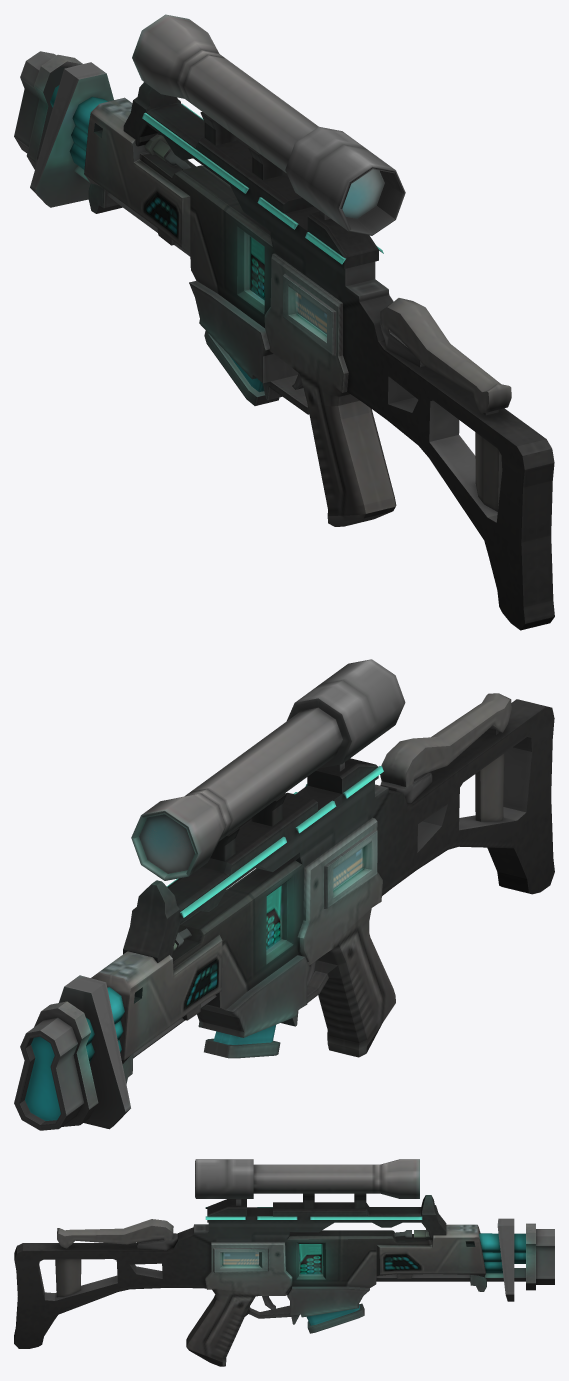
Rendered from Super_Spy_Laser_Blaster.obj.
The picture shows the model from 3 angles, top to bottom: view 1: azimuth 30°, elevation 25°; view 2: azimuth 150°, elevation 25°; view 3: azimuth 270°, elevation 25°; orthographic projection. The views are drawn at different scales.
Parts seen in each view (by area): view 1: Superspylaserblaster1; view 2: Superspylaserblaster1; view 3: Superspylaserblaster1.
Part boxes in pixels (x1,y1,x2,y2): Superspylaserblaster1: (14,14,554,630); Superspylaserblaster1: (14,659,554,1130); Superspylaserblaster1: (14,1159,554,1366).
Bounding box in the file's own units: 0.3749 × 1.41 × 3.4.
Materials: 1 (1 with a texture image).
